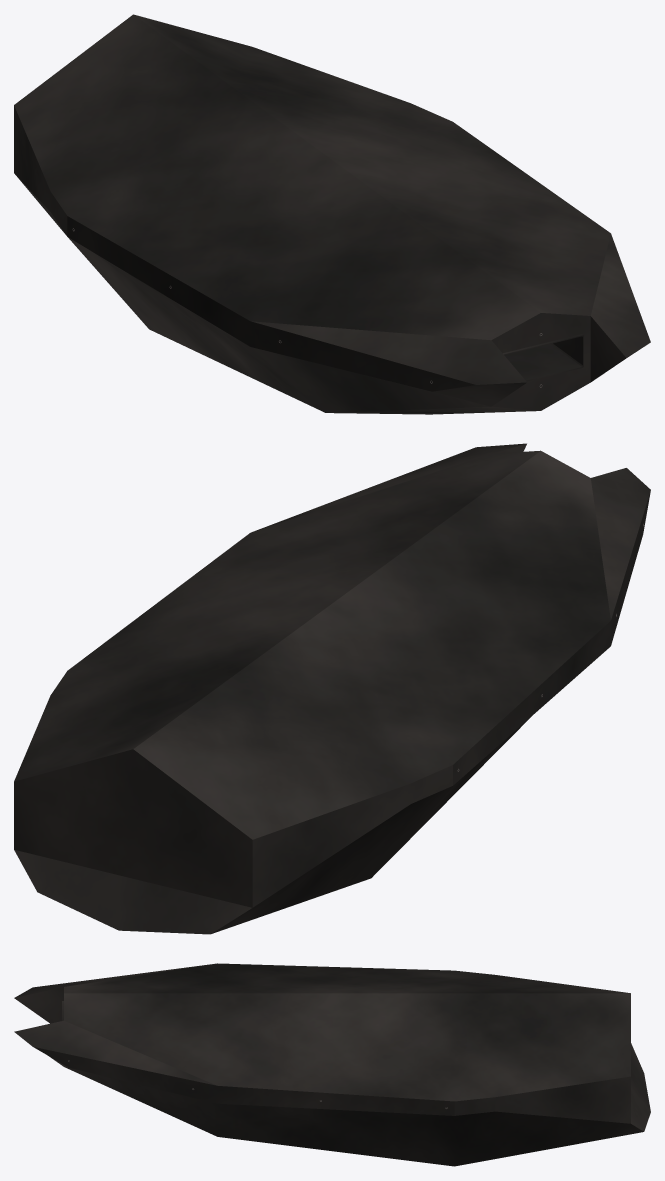
File: e_bow_d_model.fbx
3 renders of one model, top to bottom at view 1: azimuth 30°, elevation 25°; view 2: azimuth 150°, elevation 25°; view 3: azimuth 270°, elevation 25°, orthographic. The views are drawn at different scales.
Parts seen in each view (by area): view 1: polySurface23; view 2: polySurface23; view 3: polySurface23.
Part boxes in pixels (left/top/right/bottom): polySurface23: left=14, top=14, right=650, bottom=414; polySurface23: left=14, top=443, right=650, bottom=934; polySurface23: left=14, top=963, right=650, bottom=1166.
Bounding box in the file's own units: 5486 × 3090 × 11286.
Materials: 2 (1 with a texture image).
